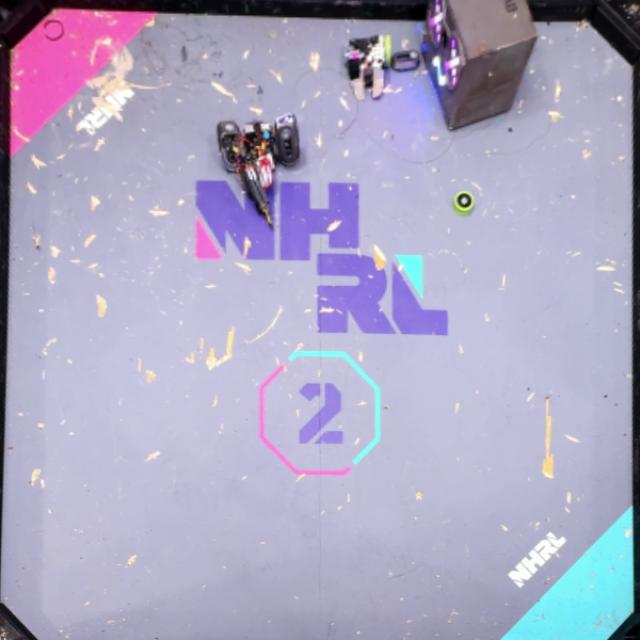housebot: (420, 0, 540, 132)
robot: (216, 114, 300, 230), (343, 34, 393, 101)
